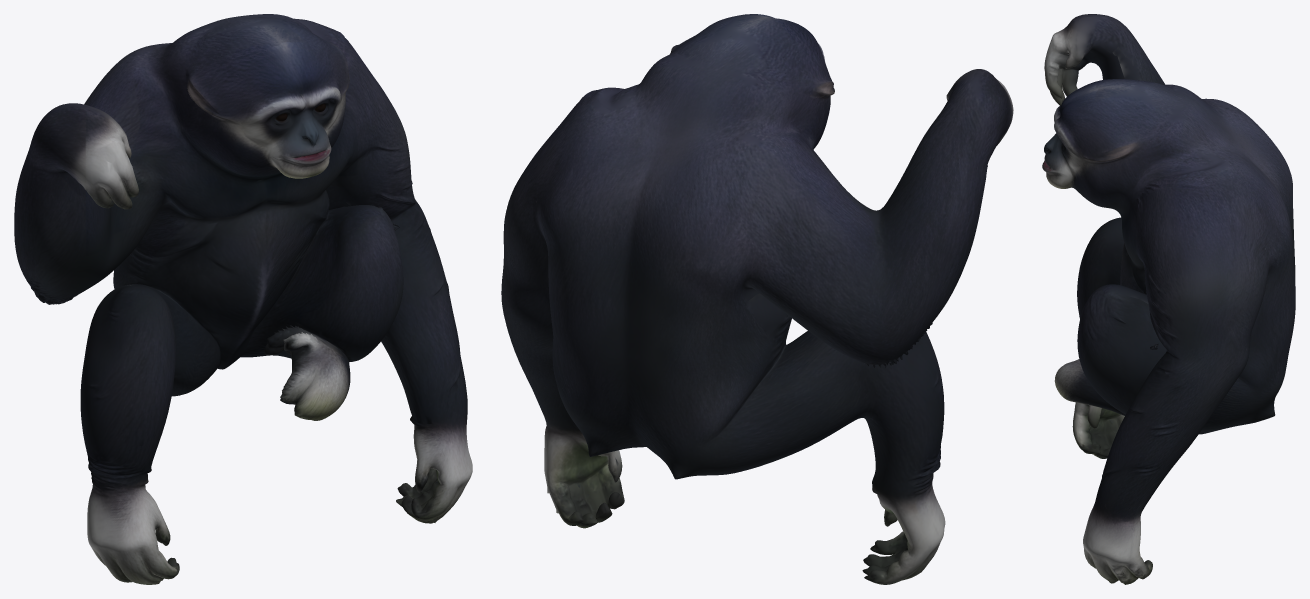
The model's file is changbiyuan-v1.glb.
3 renders of one model, left to right at view 1: azimuth 30°, elevation 25°; view 2: azimuth 150°, elevation 25°; view 3: azimuth 270°, elevation 25°, orthographic. The views are drawn at different scales.
Visible parts, largest first — view 1: material; view 2: material; view 3: material.
Part boxes in pixels (left/top/right/bottom): material: left=14, top=14, right=472, bottom=584; material: left=501, top=14, right=1013, bottom=584; material: left=1042, top=14, right=1295, bottom=584.
Bounding box in the file's own units: 0.8236 × 0.9458 × 0.5027.
1 material, 1 textured.
